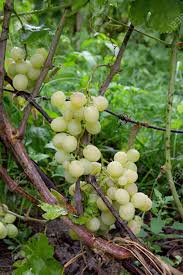grapes: (49, 84, 107, 186), (95, 149, 156, 231), (9, 43, 51, 95)
